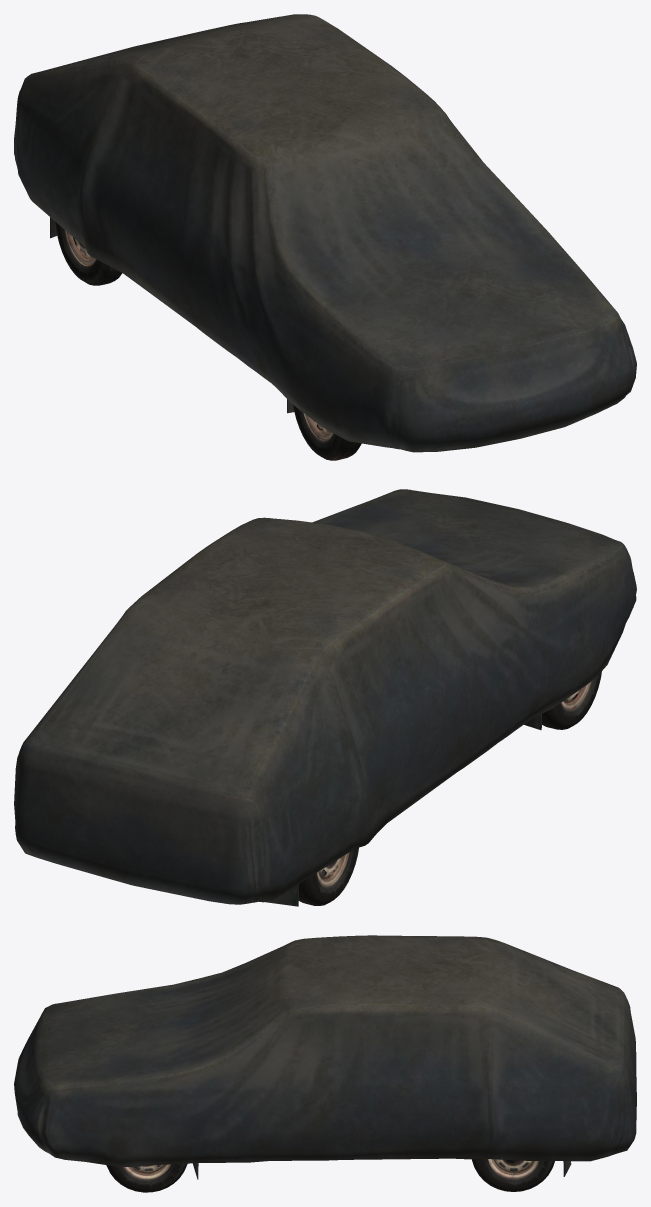
The model's file is covered_car.glb.
The picture shows the model from 3 angles, top to bottom: view 1: azimuth 30°, elevation 25°; view 2: azimuth 150°, elevation 25°; view 3: azimuth 270°, elevation 25°; orthographic projection. The views are drawn at different scales.
Visible parts, largest first — view 1: covered_car; view 2: covered_car; view 3: covered_car.
Part boxes in pixels (bbox=[...]): covered_car: bbox=[14, 14, 636, 460]; covered_car: bbox=[14, 489, 636, 906]; covered_car: bbox=[14, 935, 636, 1192].
Bounding box in the file's own units: 1.79 × 1.41 × 4.38.
Materials: 2 (2 with a texture image).
